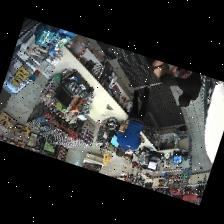person: (115, 84, 150, 155), (173, 72, 201, 106), (144, 56, 176, 85)
